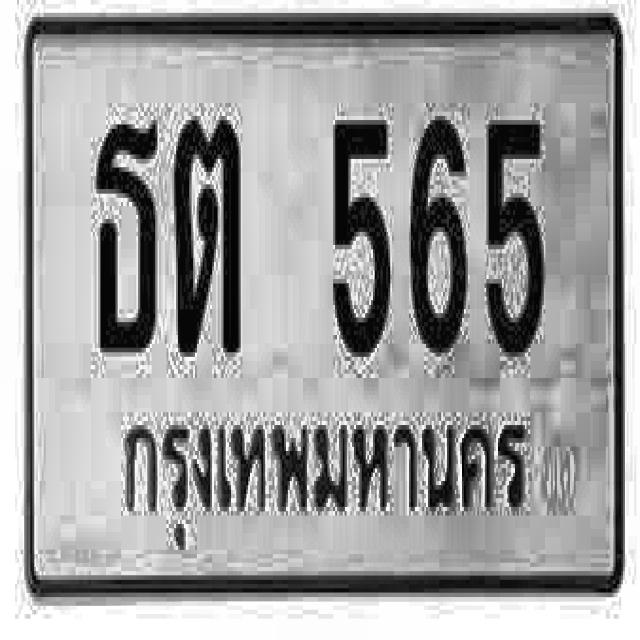license-plate: (24, 9, 627, 606)
